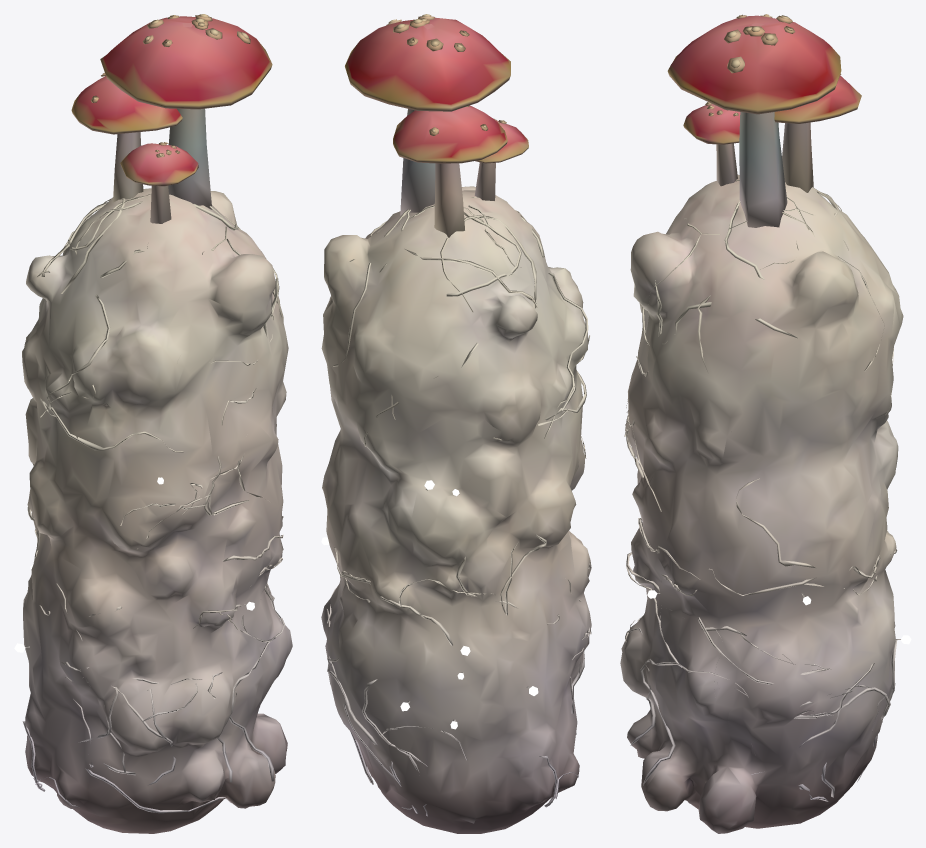
Rendered from labirent_dugum_b.glb.
The picture shows the model from 3 angles, left to right: view 1: azimuth 30°, elevation 25°; view 2: azimuth 150°, elevation 25°; view 3: azimuth 270°, elevation 25°; orthographic projection. The views are drawn at different scales.
Parts seen in each view (by area): view 1: labirent_dugum_b_LOD0; view 2: labirent_dugum_b_LOD0; view 3: labirent_dugum_b_LOD0.
Part boxes in pixels (bbox=[...]): labirent_dugum_b_LOD0: bbox=[14, 14, 292, 833]; labirent_dugum_b_LOD0: bbox=[321, 14, 591, 833]; labirent_dugum_b_LOD0: bbox=[620, 14, 911, 833].
Size of what is drawn, in the model's own units: 2.21 by 6.9 by 2.27.
